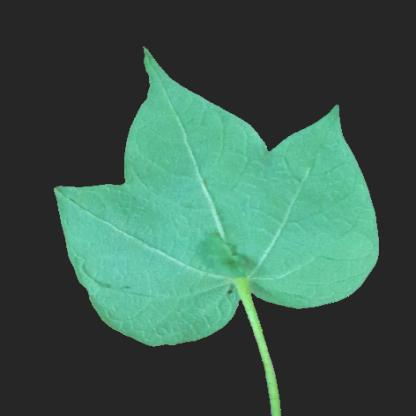curl_stage2: (71, 194, 189, 282), (144, 113, 252, 187), (254, 164, 358, 238), (101, 278, 197, 334), (271, 237, 355, 289)
leaf_enation: (192, 226, 268, 304)
